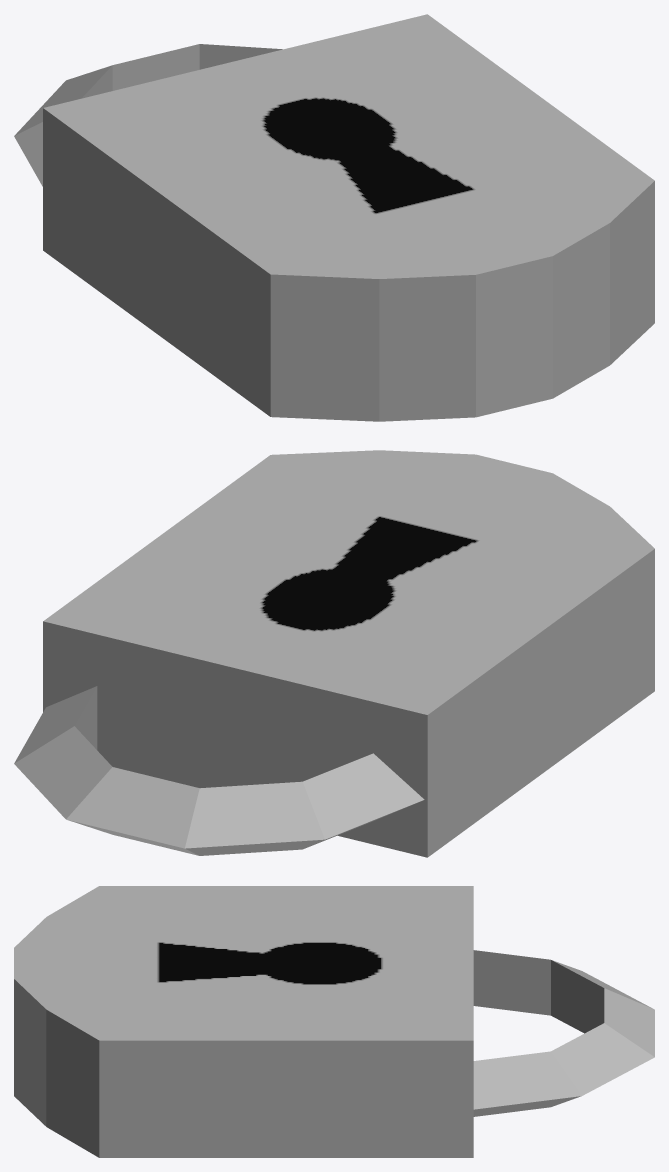
The model's file is LockFBX.fbx.
The picture shows the model from 3 angles, top to bottom: view 1: azimuth 30°, elevation 25°; view 2: azimuth 150°, elevation 25°; view 3: azimuth 270°, elevation 25°; orthographic projection. The views are drawn at different scales.
Visible parts, largest first — view 1: Cube; view 2: Cube; view 3: Cube.
Boxes of the visible parts, <box> form: Cube: <box>14,14,654,421</box>; Cube: <box>14,450,654,857</box>; Cube: <box>14,886,654,1157</box>.
Bounding box in the file's own units: 61.62 × 21.84 × 108.
